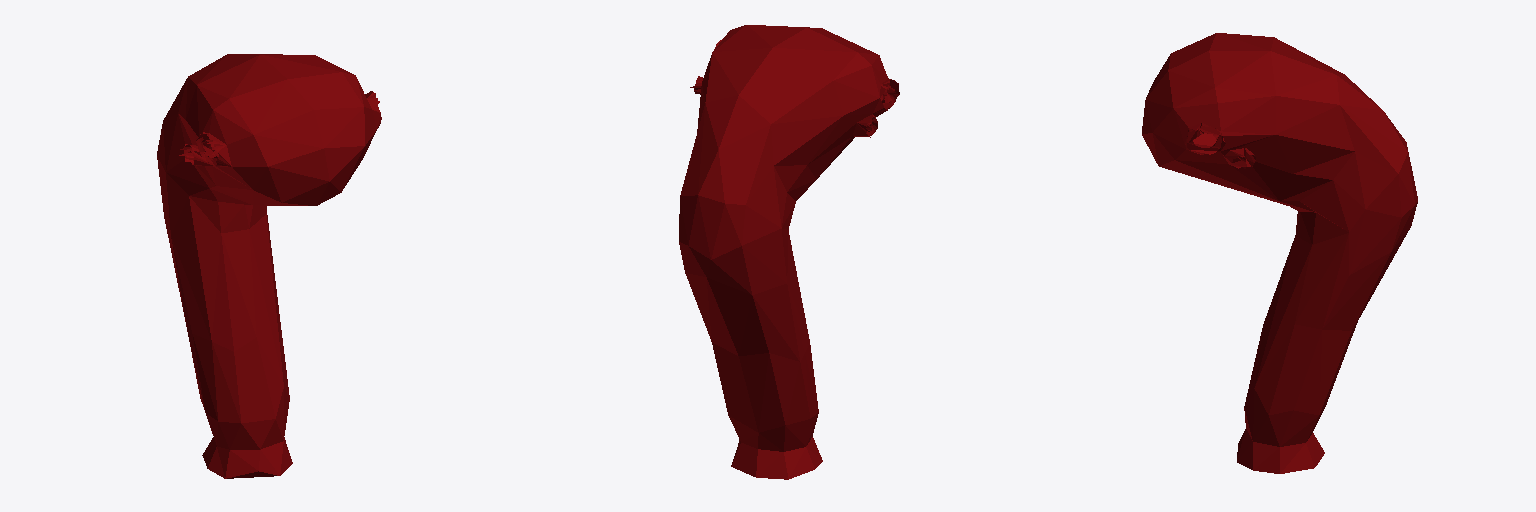
File: prueba2.obj
3 views of the same model, side by side, from view 1: azimuth 30°, elevation 25°; view 2: azimuth 150°, elevation 25°; view 3: azimuth 270°, elevation 25° (orthographic).
Parts seen in each view (by area): view 1: Uterus-Whole.001; view 2: Uterus-Whole.001; view 3: Uterus-Whole.001.
Part boxes in pixels (left/top/right/bottom): Uterus-Whole.001: left=157, top=54, right=381, bottom=478; Uterus-Whole.001: left=679, top=25, right=899, bottom=479; Uterus-Whole.001: left=1142, top=33, right=1417, bottom=473.
Bounding box in the file's own units: 2.41 × 5.13 × 3.14.